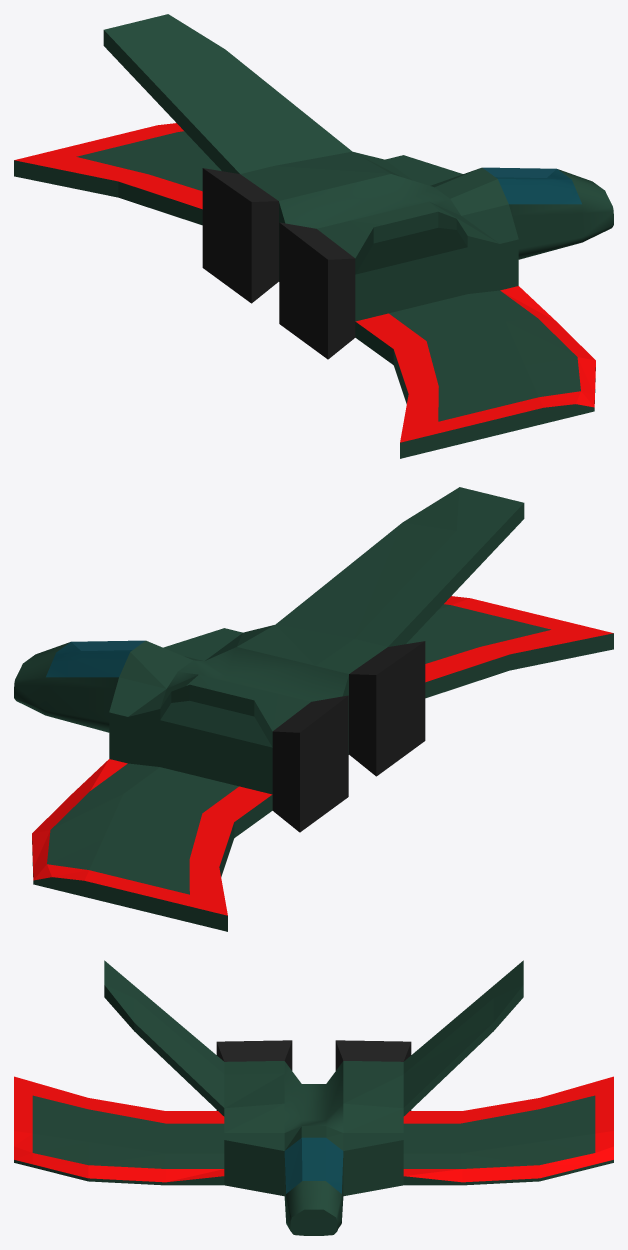
File: Ship1.FBX
The picture shows the model from 3 angles, top to bottom: view 1: azimuth 30°, elevation 25°; view 2: azimuth 150°, elevation 25°; view 3: azimuth 270°, elevation 25°; orthographic projection. The views are drawn at different scales.
Parts seen in each view (by area): view 1: Cylinder001; view 2: Cylinder001; view 3: Cylinder001.
Boxes of the visible parts, x1,y1,x2,y2 form: Cylinder001: (14,14,613,458); Cylinder001: (14,487,613,931); Cylinder001: (14,960,613,1235).
Size of the model in its own units: 230 by 108 by 393.
